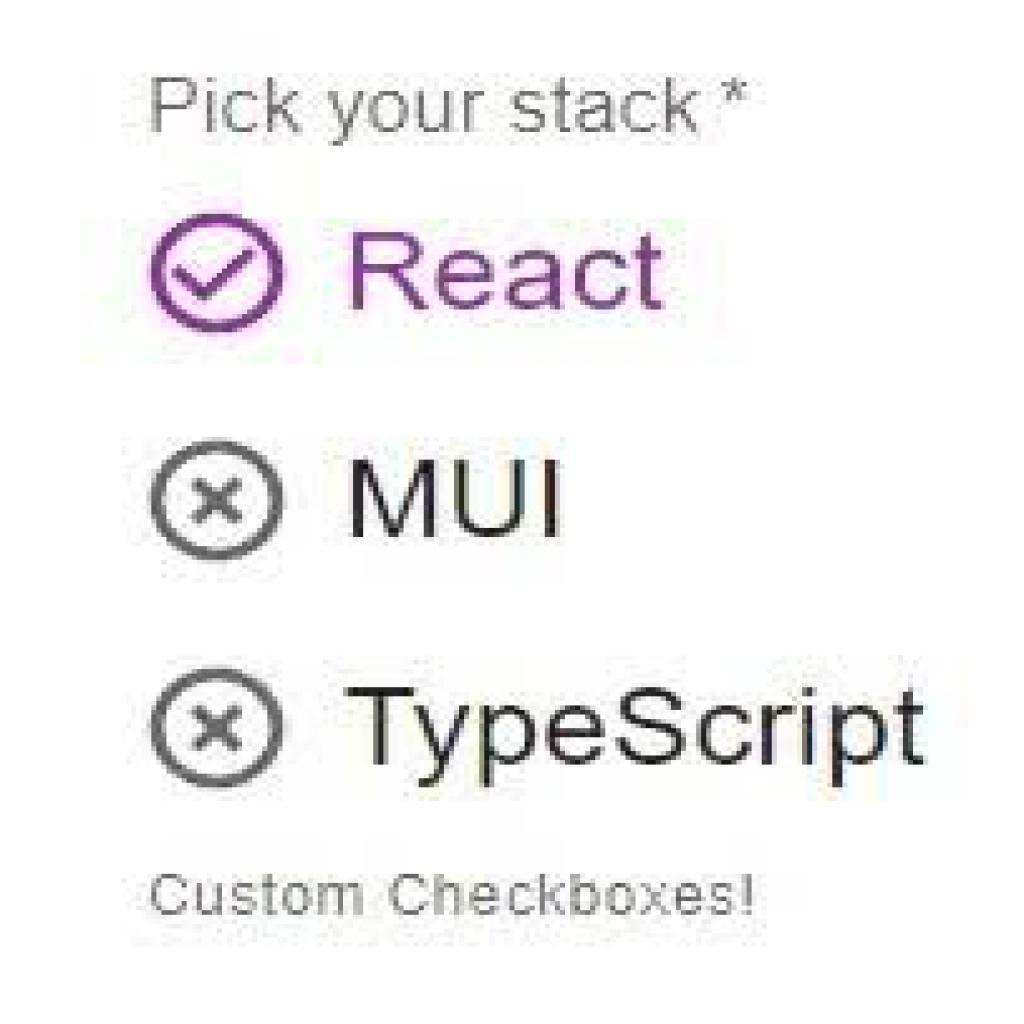checkbox: (148, 215, 283, 339), (154, 439, 284, 564), (154, 669, 284, 789)
label: (340, 665, 937, 793), (146, 65, 748, 147), (345, 216, 679, 325), (151, 869, 756, 927), (337, 456, 579, 546)
